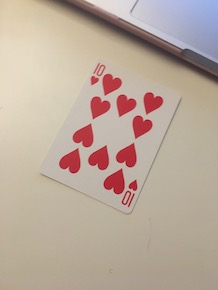TenOfHearts: (38, 55, 184, 216)
